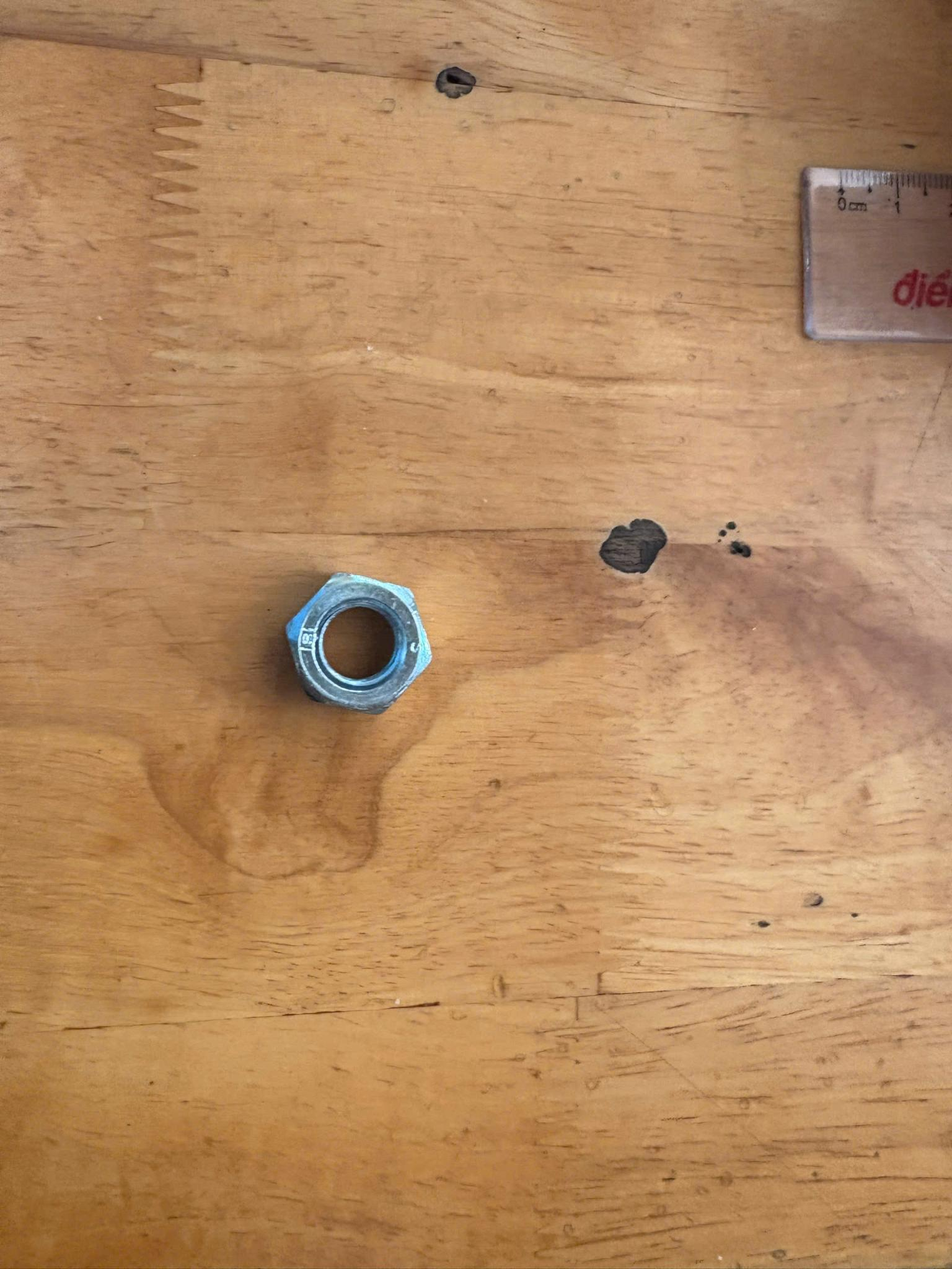nut: (278, 556, 460, 760)
